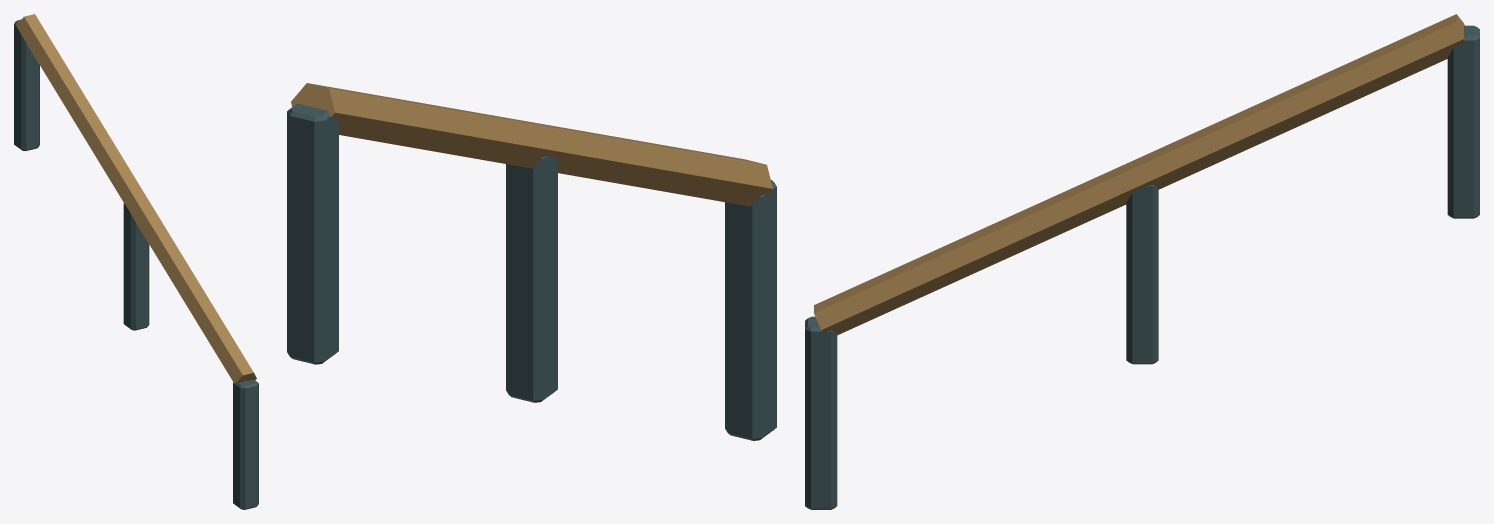
File: stair-rail.glb
The picture shows the model from 3 angles, left to right: view 1: azimuth 30°, elevation 25°; view 2: azimuth 150°, elevation 25°; view 3: azimuth 270°, elevation 25°; orthographic projection. The views are drawn at different scales.
Visible parts, largest first — view 1: stair-rail__body; view 2: stair-rail__body; view 3: stair-rail__body.
Boxes of the visible parts, left/top/right/bottom form: stair-rail__body: left=14, top=14, right=258, bottom=509; stair-rail__body: left=287, top=83, right=776, bottom=440; stair-rail__body: left=805, top=14, right=1479, bottom=509.
Bounding box in the file's own units: 0.14 × 2 × 2.52.
